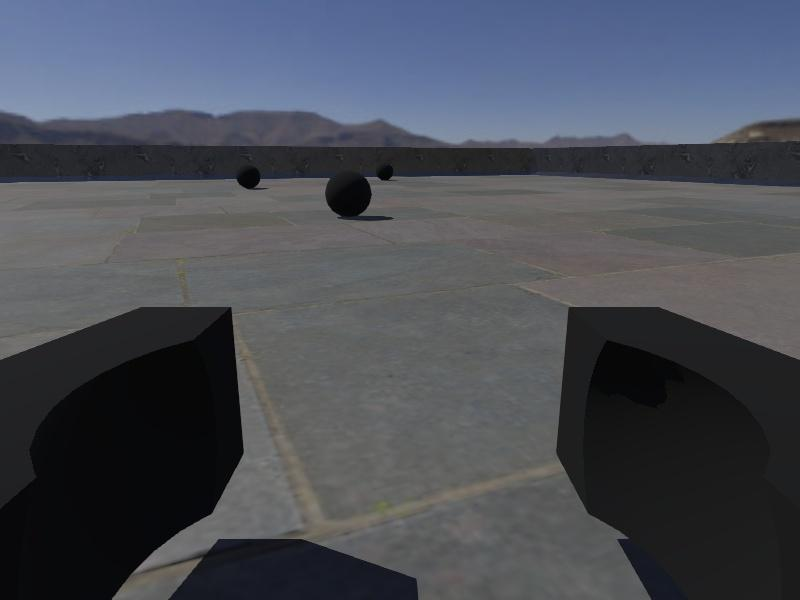black ball: (325, 168, 372, 218), (235, 163, 262, 191), (375, 162, 395, 182)
